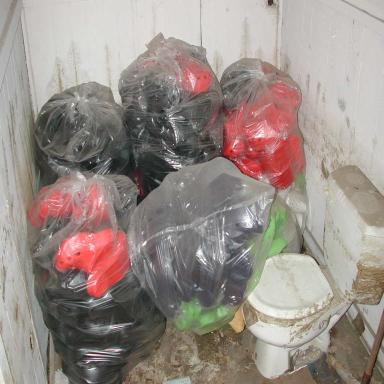plasticbag: (25, 175, 158, 376), (138, 167, 294, 327), (219, 52, 325, 212), (122, 32, 238, 172), (32, 87, 128, 184)
